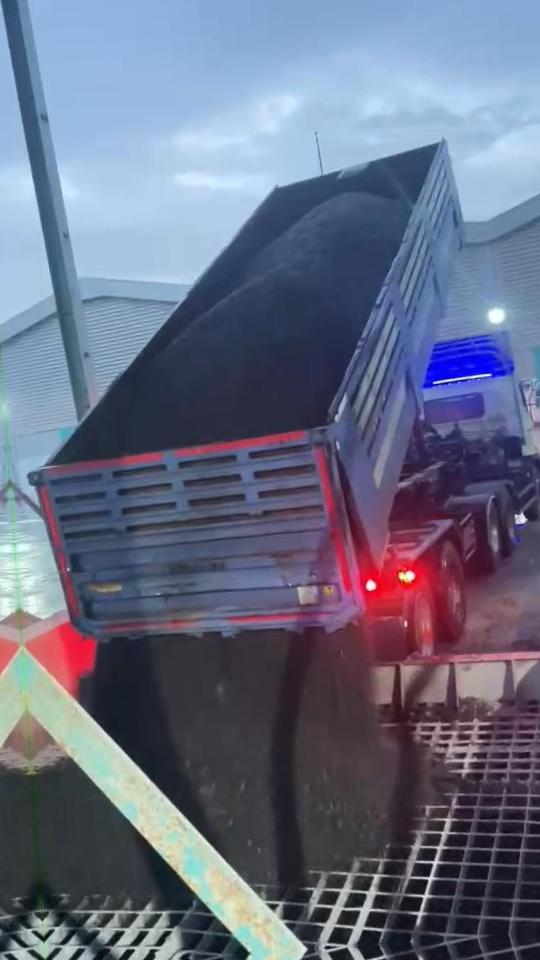gravel: (92, 625, 418, 884), (121, 194, 409, 453), (34, 756, 187, 906)
